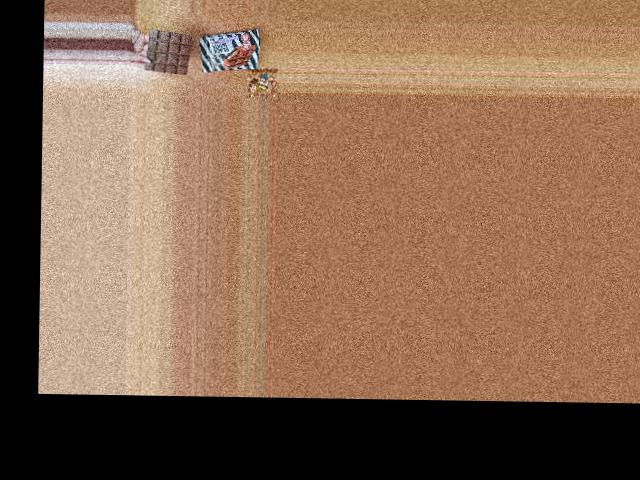chocolate: (196, 29, 262, 71)
